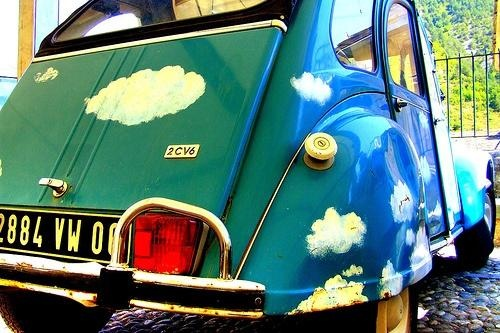car: (2, 1, 497, 330)
